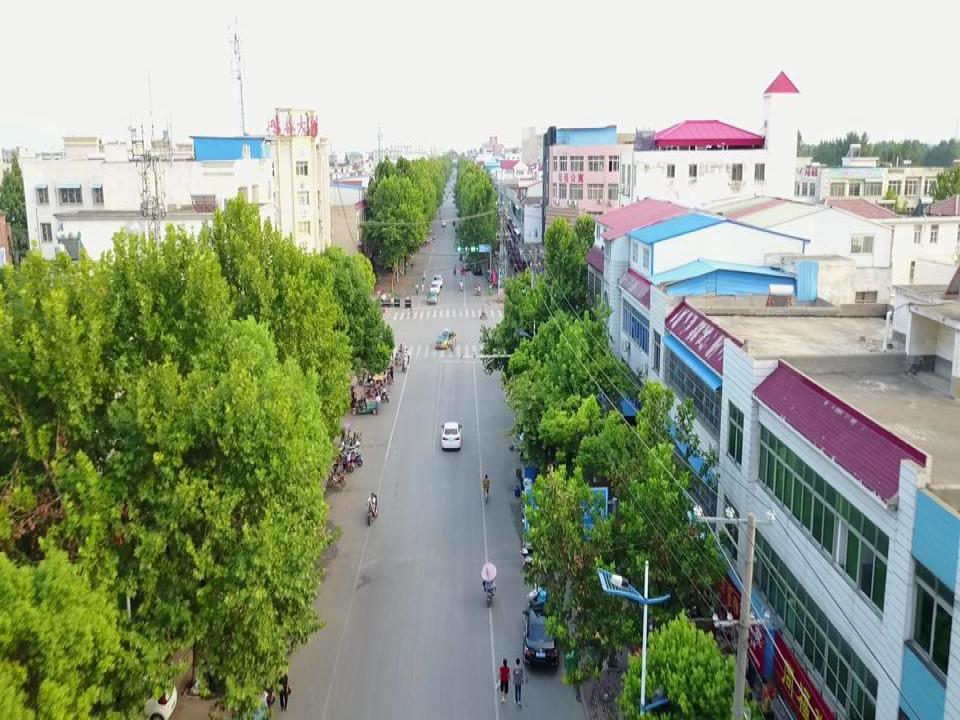car: (523, 602, 558, 669), (132, 672, 180, 719), (441, 420, 464, 449), (436, 331, 457, 349), (428, 281, 445, 295), (427, 291, 439, 305), (433, 274, 445, 286), (456, 279, 467, 289), (441, 218, 447, 226)
